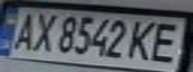2: (106, 16, 133, 60)
4: (90, 15, 112, 57)
5: (72, 12, 96, 56)
8: (51, 11, 78, 55)
A: (6, 9, 42, 52)
E: (142, 19, 190, 64)
K: (124, 17, 163, 62)
X: (24, 10, 60, 53)
